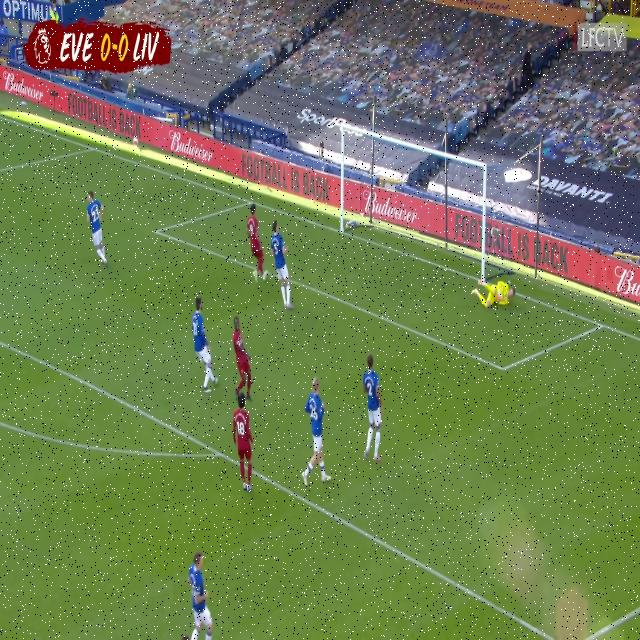GoalKeeper: (468, 277, 514, 315)
TEAM 1: (225, 391, 260, 498), (231, 314, 263, 402), (242, 204, 268, 286)
TEAM 2: (299, 376, 335, 487), (187, 293, 221, 398), (266, 220, 300, 317), (182, 552, 218, 640), (77, 192, 117, 270), (363, 354, 384, 465)
